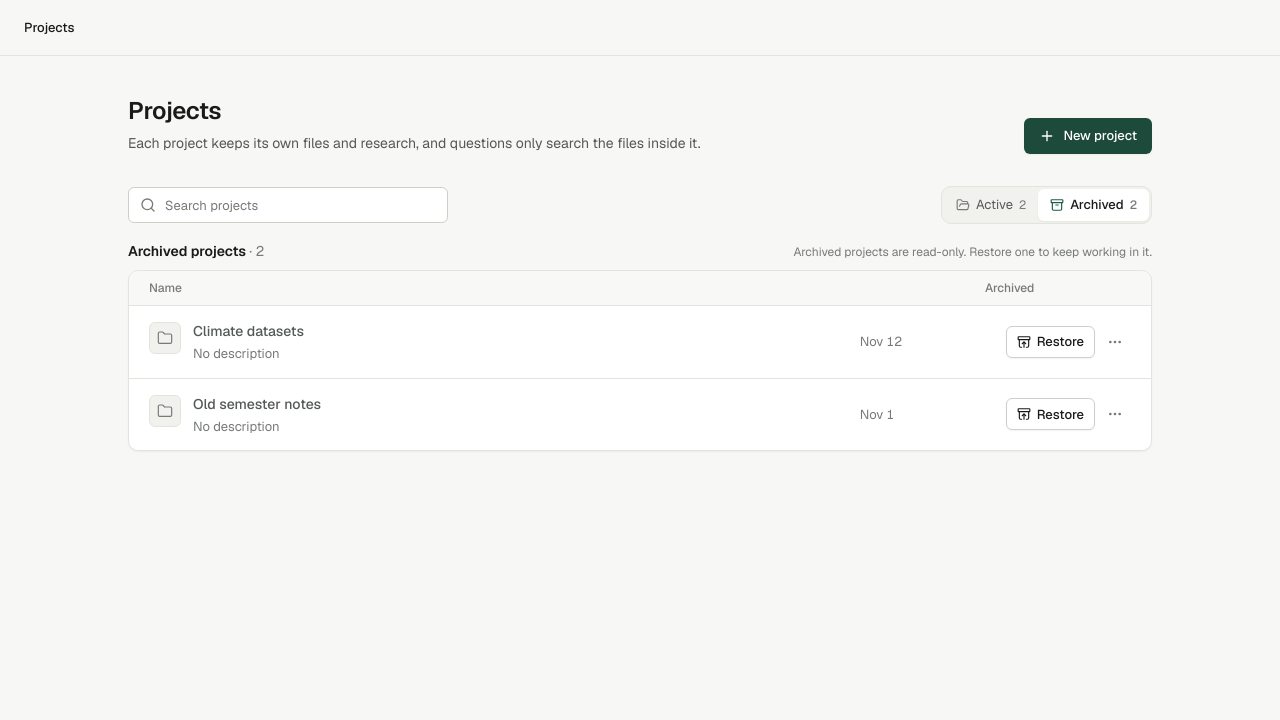
Test: Projects archive › deletes a project permanently only after confirming
Click the button named "Actions for Old semester notes" at (1115, 414), box [1099,398,1131,430]
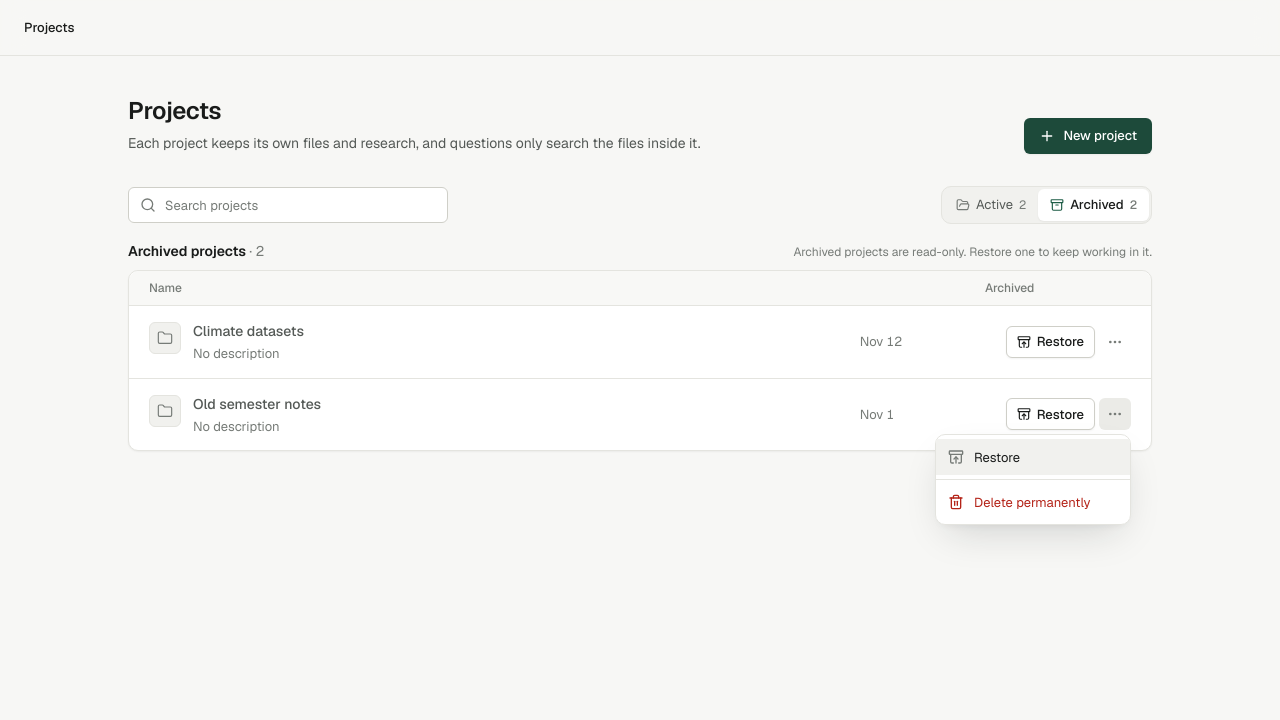
Click the menu item "Delete permanently" at (1033, 502), box [936,484,1130,520]
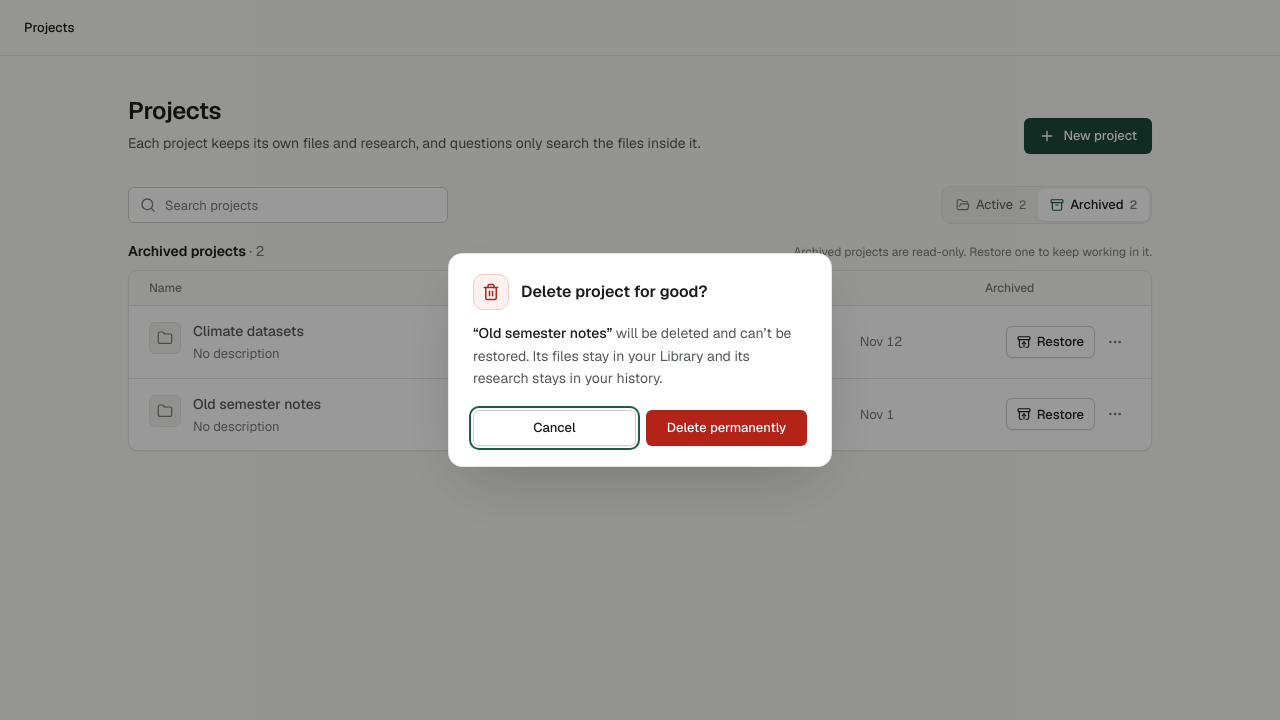
Click the button "Delete permanently" at (726, 428), box [646,410,807,446]
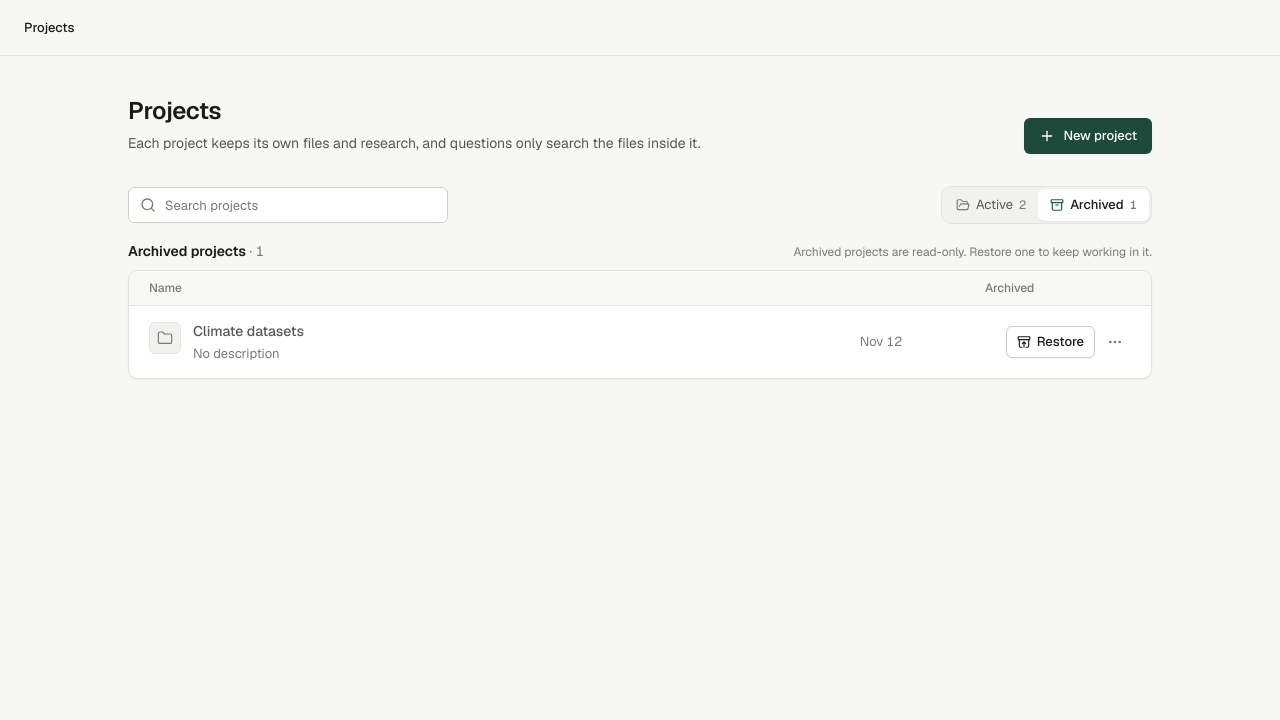
expect the heading "Old semester notes" is gone: met
